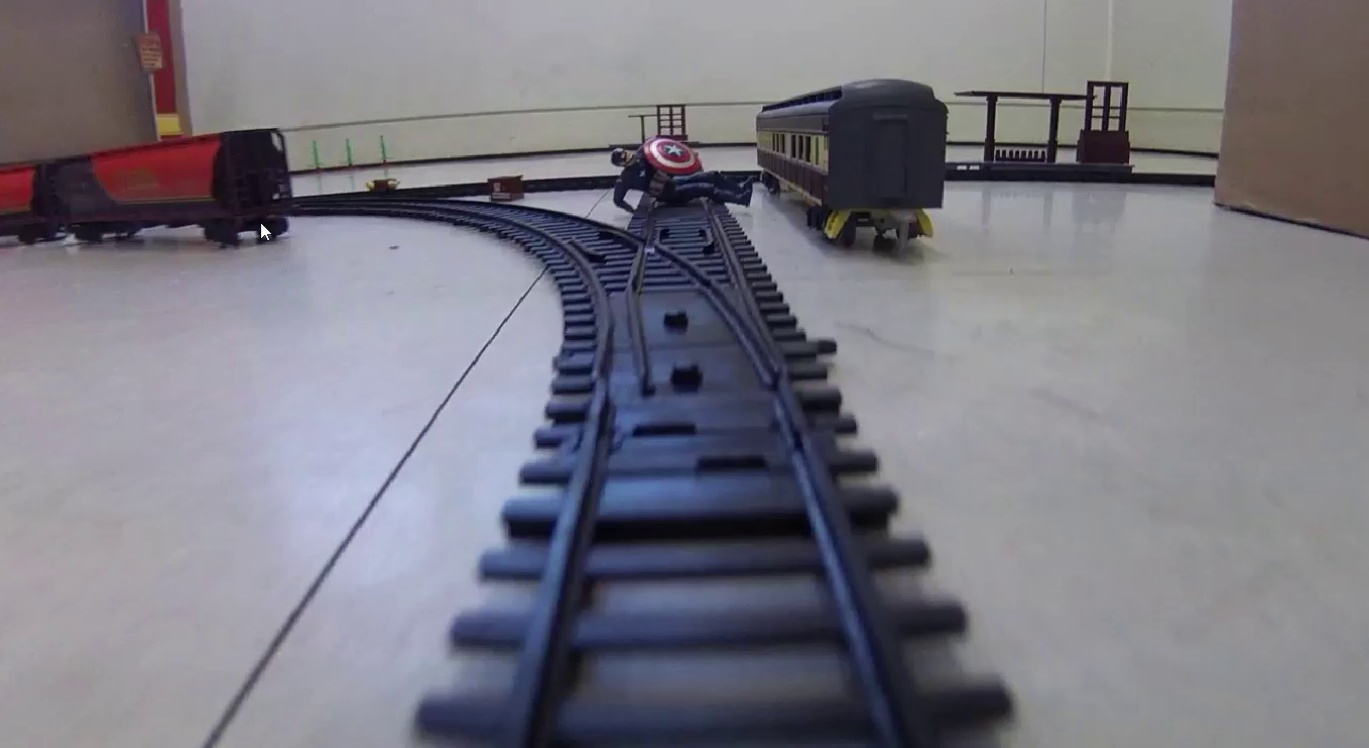people: (612, 139, 754, 209)
